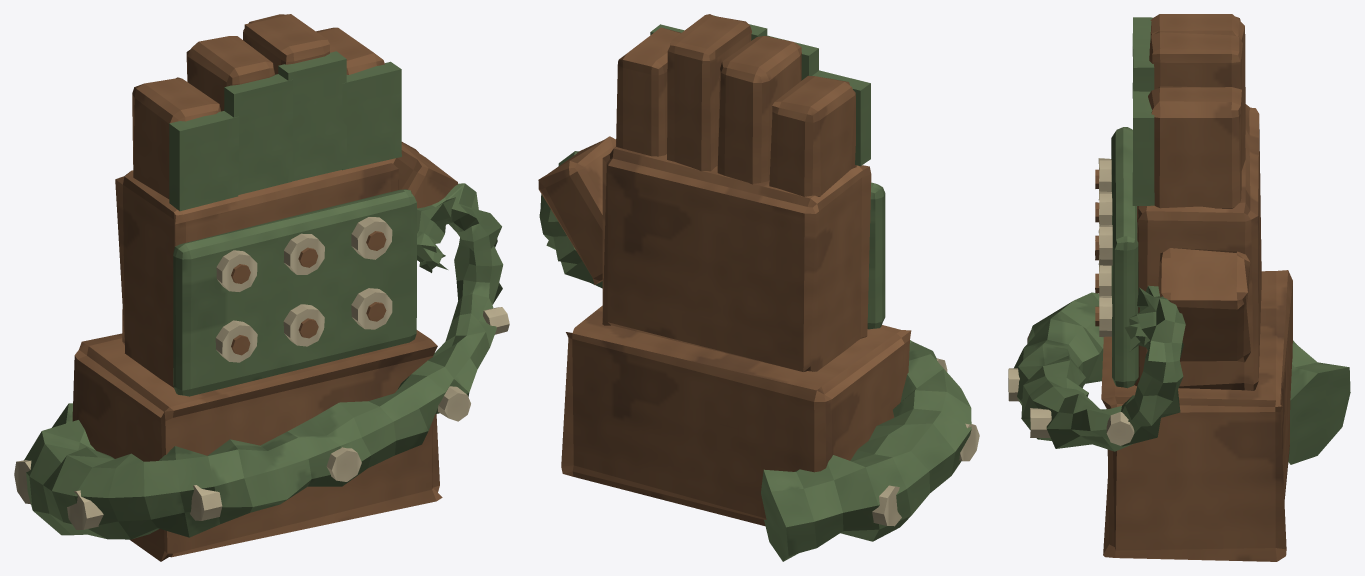
The model's file is kraken_gauntlets.glb.
The picture shows the model from 3 angles, left to right: view 1: azimuth 30°, elevation 25°; view 2: azimuth 150°, elevation 25°; view 3: azimuth 270°, elevation 25°; orthographic projection. The views are drawn at different scales.
Visible parts, largest first — view 1: KrakenGauntlets; view 2: KrakenGauntlets; view 3: KrakenGauntlets.
Part boxes in pixels (bbox=[...]): KrakenGauntlets: bbox=[14, 14, 509, 561]; KrakenGauntlets: bbox=[538, 14, 979, 561]; KrakenGauntlets: bbox=[1008, 14, 1350, 561].
Bounding box in the file's own units: 0.5476 × 0.5715 × 0.3664.
3 materials, 3 textured.
